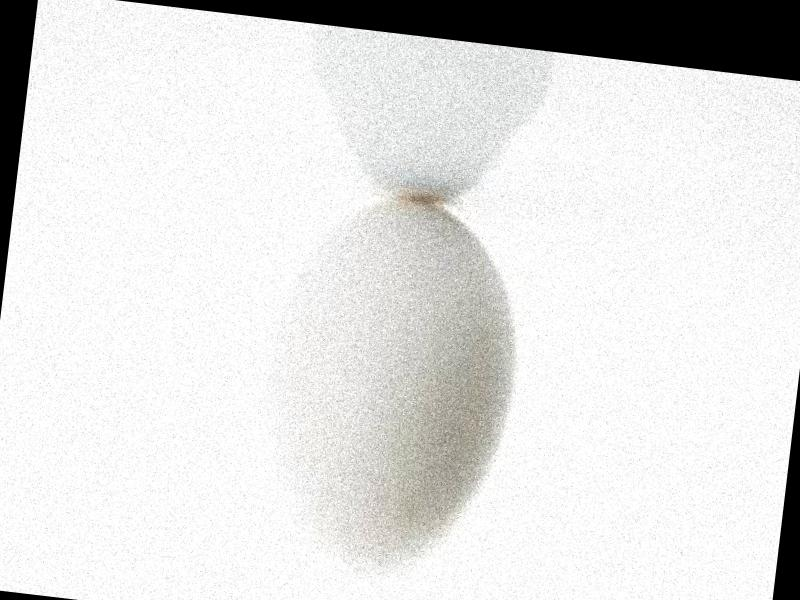Eggs: (255, 186, 533, 588)
